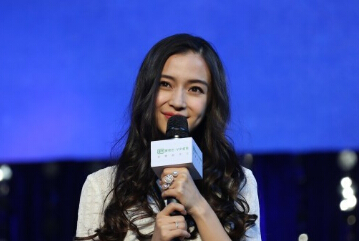face: (154, 63, 208, 135)
